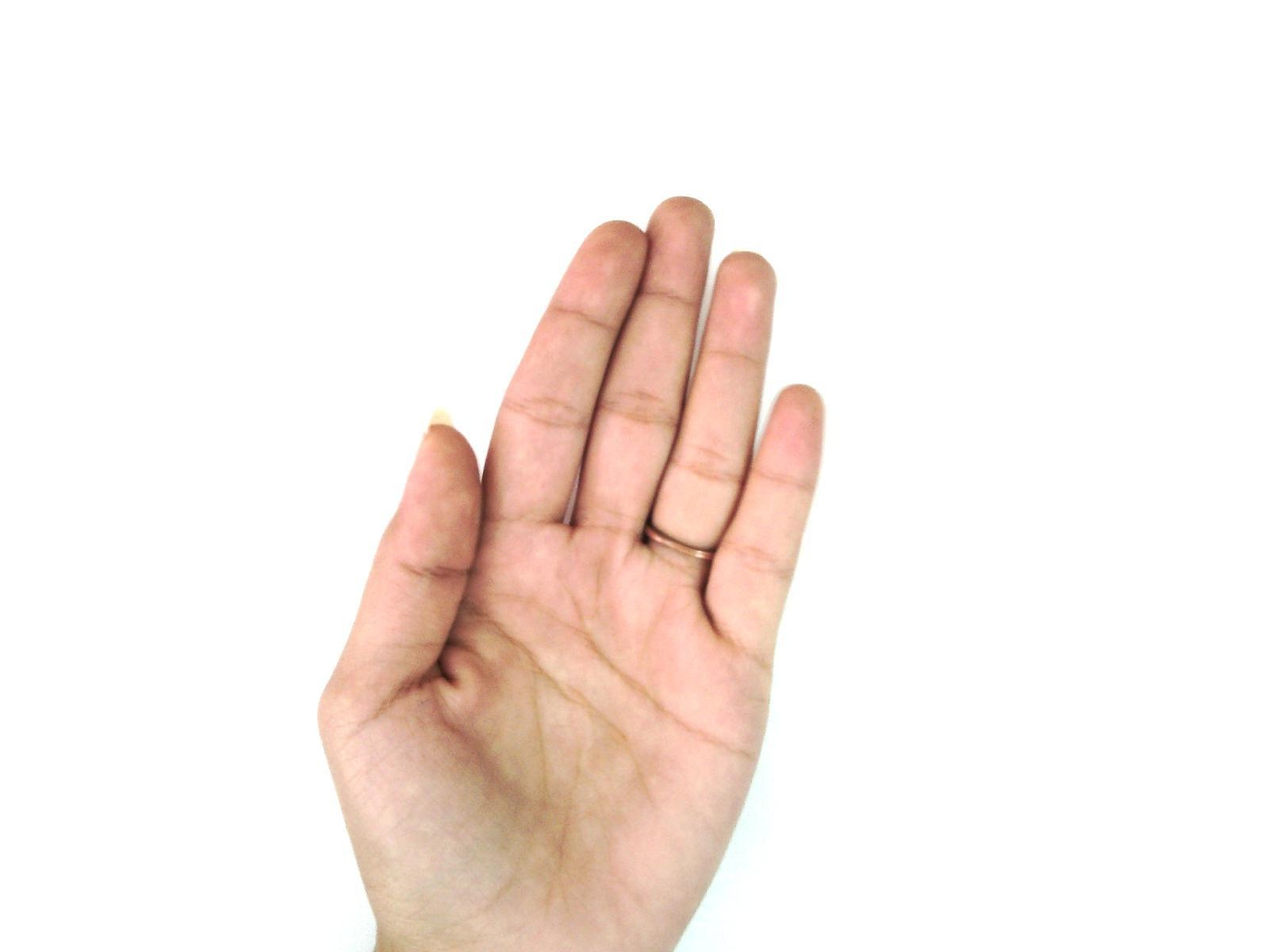open_palm: (316, 194, 829, 951)
